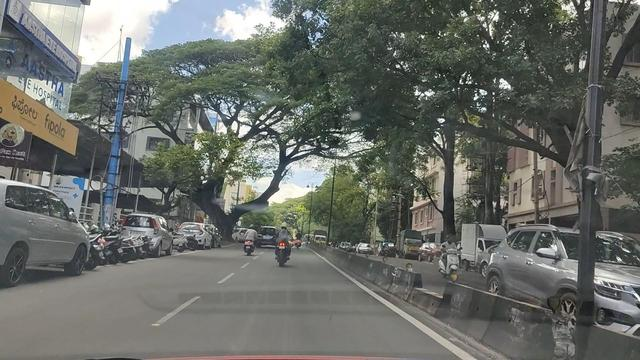LMV: (0, 178, 88, 284), (276, 226, 294, 269)
